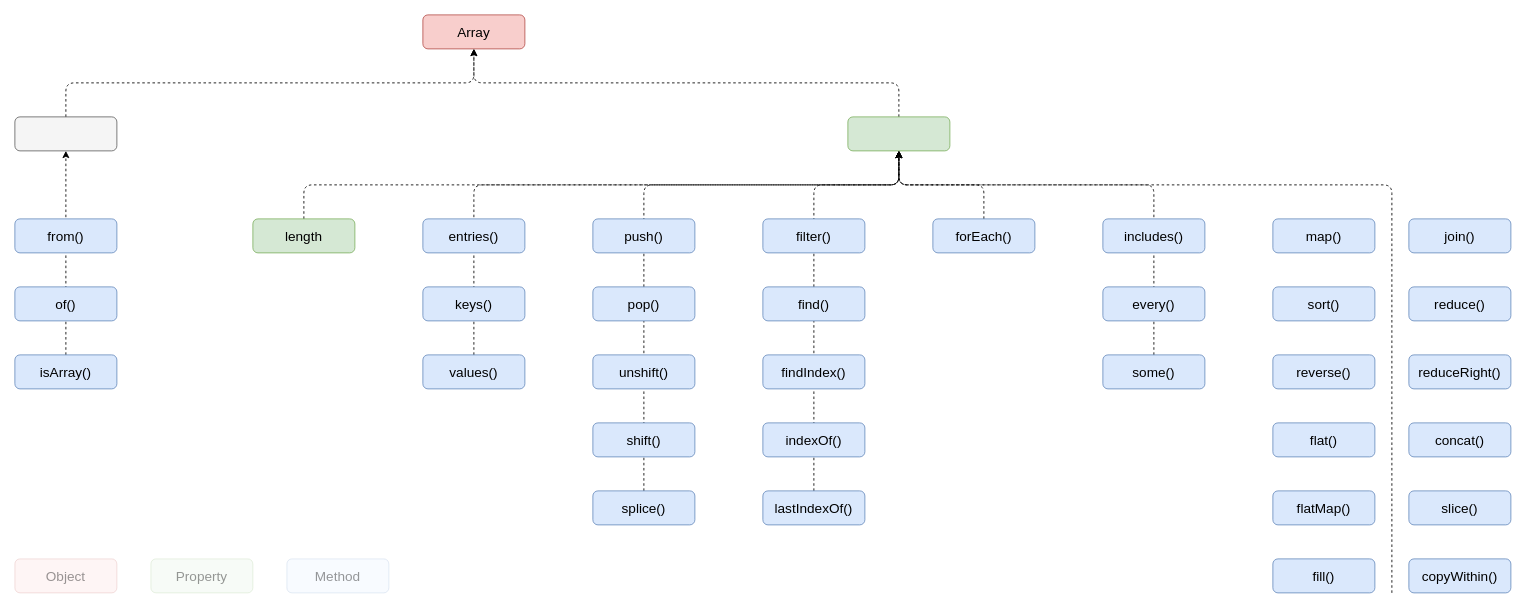
The diagram is 1526 pixels wide and 615 high, and some of its shapes have lost their labels. The shapes that lost their labels are listed below. From the top down, each one's box as (x1, y1, x2, y2) in pixels, then its label:
(14, 116, 117, 151): static
(847, 116, 950, 151): prototype
